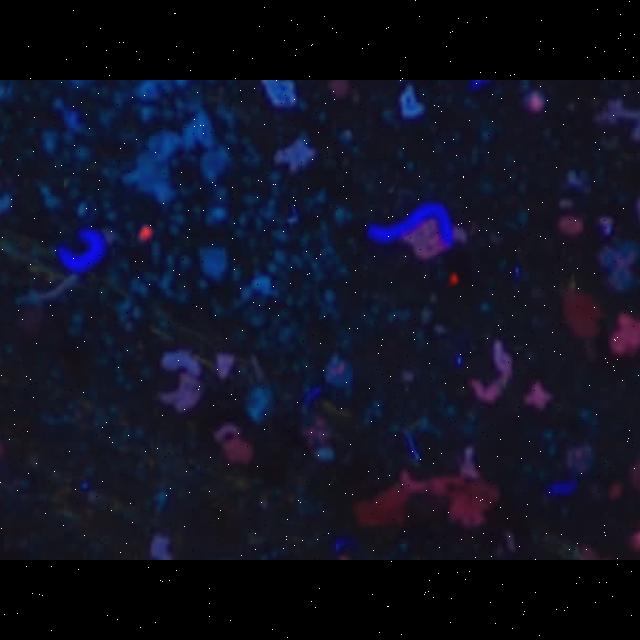Fragment: (352, 466, 502, 532)
